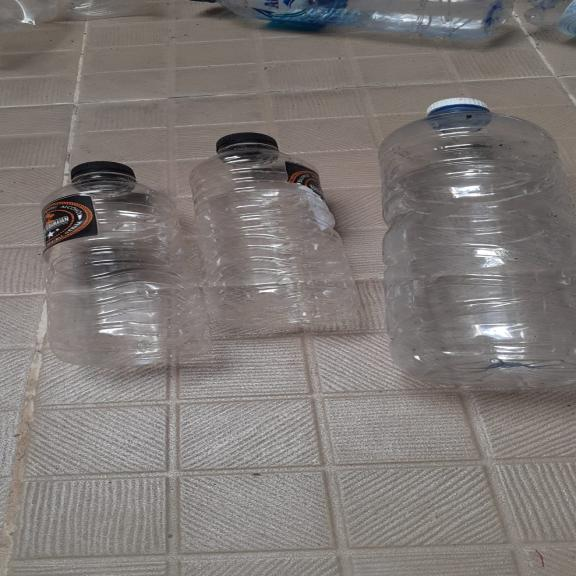Plastik: (382, 95, 576, 389), (185, 129, 375, 338), (44, 161, 210, 371), (185, 0, 520, 49)
